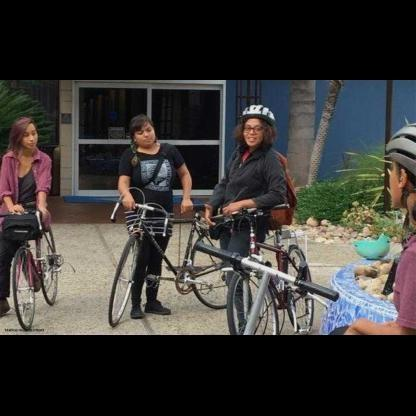Bicycle: (96, 184, 235, 336), (215, 192, 340, 339), (0, 204, 78, 334)
